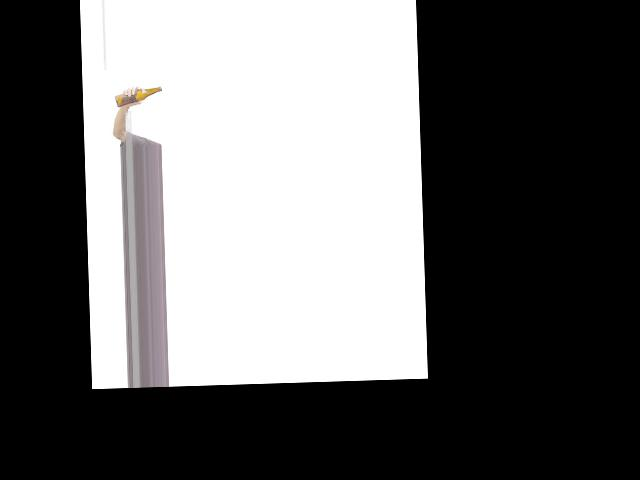beer: (114, 87, 161, 108)
